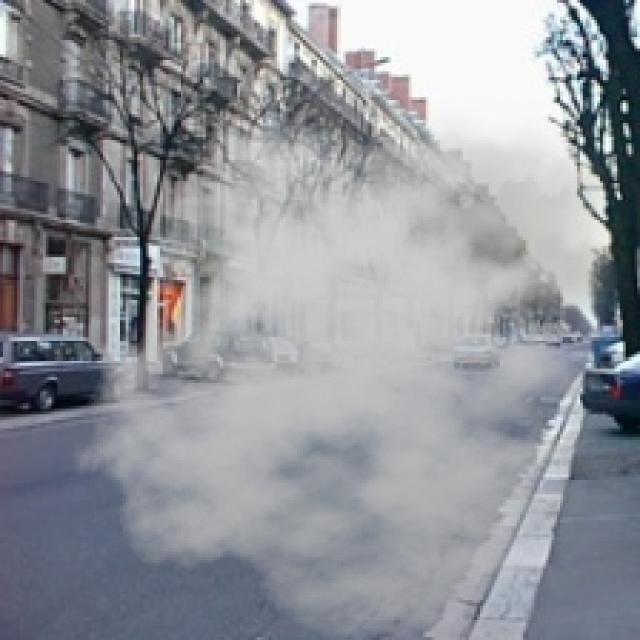Smoke: (72, 97, 638, 637)
